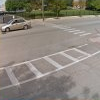crosswalk: (0, 47, 93, 89), (53, 24, 91, 36)
